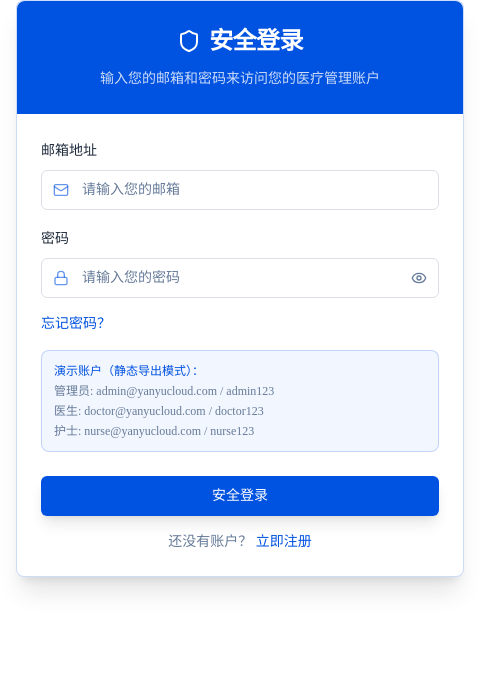
Test: LoginForm › rejects wrong password for known account
Type "admin@yanyucloud.com" into the field labelled "邮箱地址" at (240, 190), box [41,170,439,210]
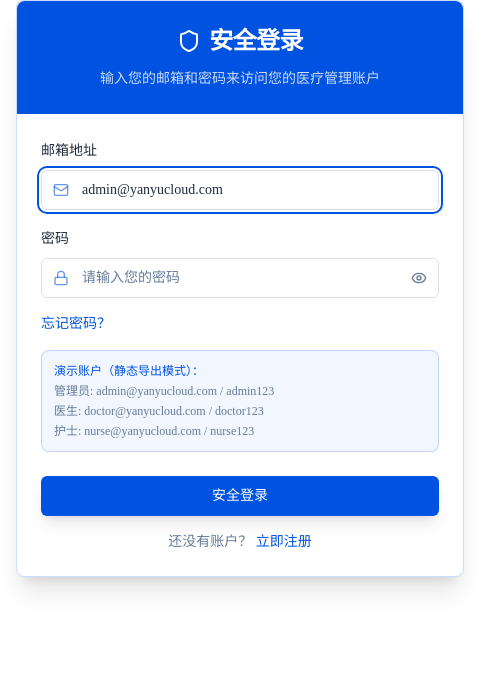
Type "wrongpassword" into the password field labelled "密码" at (240, 278), box [41,258,439,298]
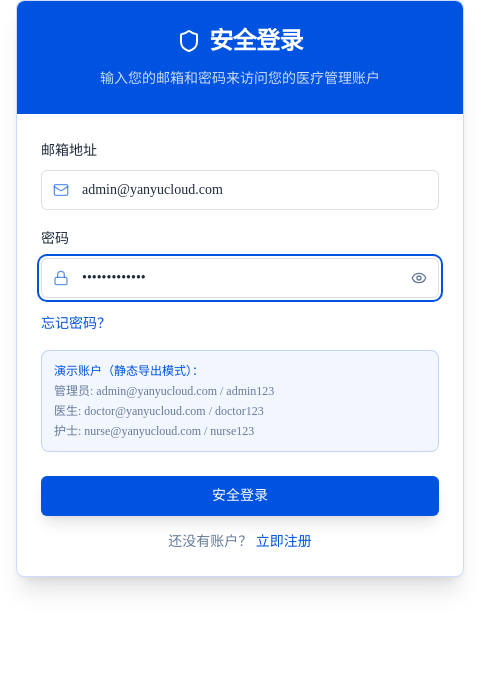
Click the button "安全登录" at (240, 496), box [41,476,439,516]
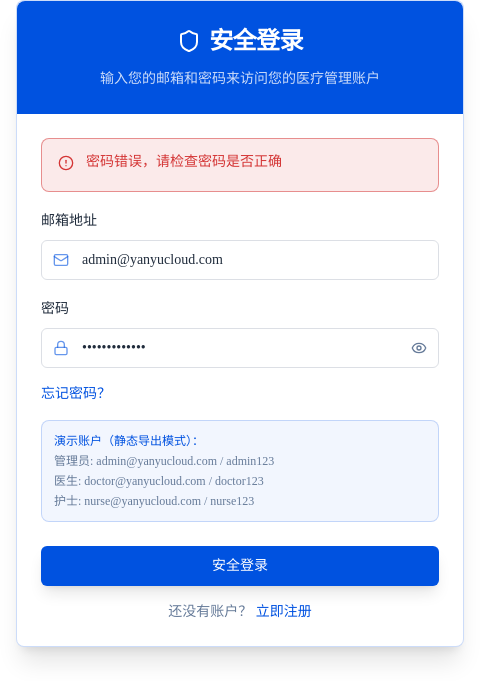
Check: the text "密码错误，请检查密码是否正确" is shown, box [86,154,282,169]
